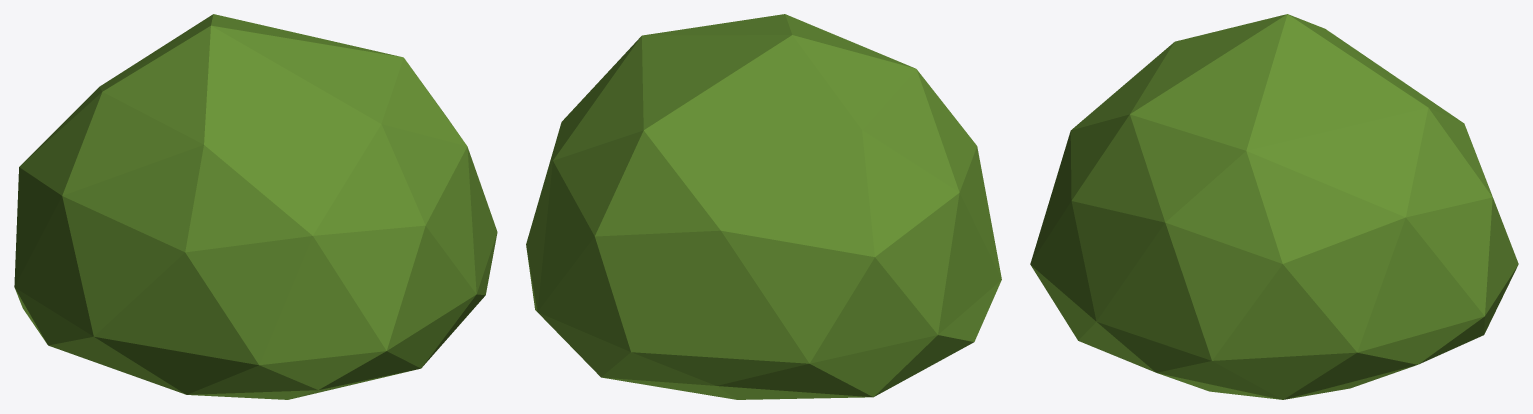
Rendered from brush_2.glb.
3 views of the same model, side by side, from view 1: azimuth 30°, elevation 25°; view 2: azimuth 150°, elevation 25°; view 3: azimuth 270°, elevation 25° (orthographic). The views are drawn at different scales.
Visible parts, largest first — view 1: Arbusto_01.001; view 2: Arbusto_01.001; view 3: Arbusto_01.001.
Boxes of the visible parts, x1,y1,x2,y2 form: Arbusto_01.001: (14, 14, 497, 399); Arbusto_01.001: (526, 14, 1001, 399); Arbusto_01.001: (1030, 14, 1518, 399).
Size of the model in its own units: 2.08 by 1.55 by 2.17.
Materials: 1 (1 with a texture image).
